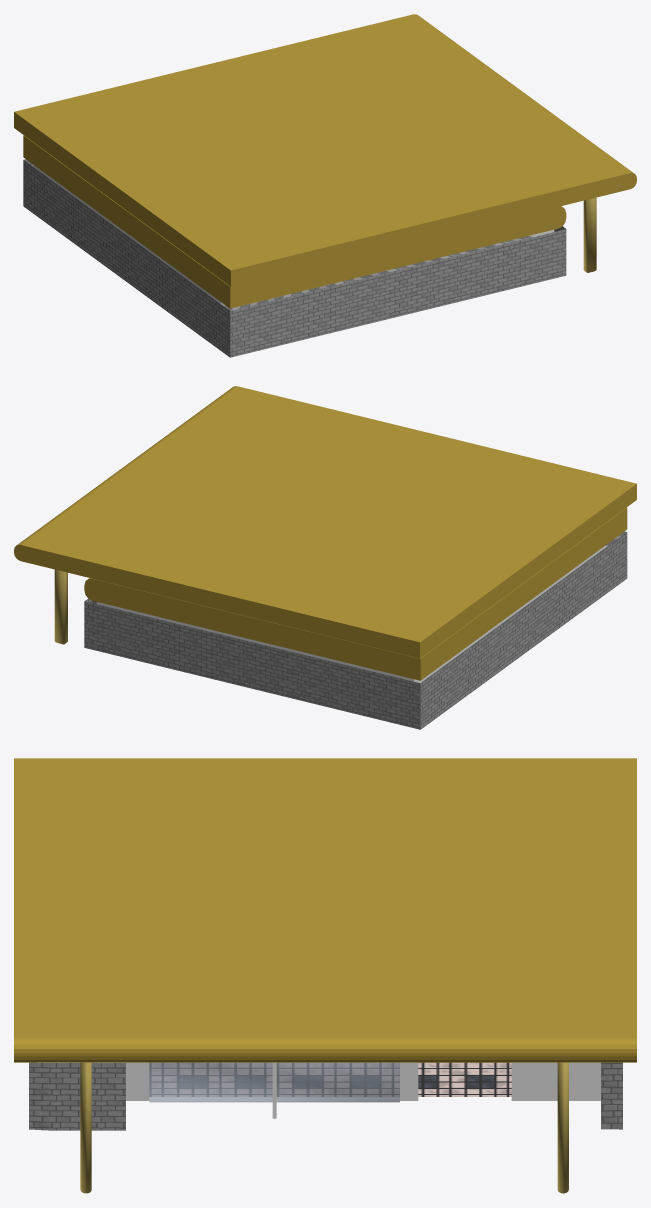
The model's file is GasStore.fbx.
The picture shows the model from 3 angles, top to bottom: view 1: azimuth 30°, elevation 25°; view 2: azimuth 150°, elevation 25°; view 3: azimuth 270°, elevation 25°; orthographic projection. The views are drawn at different scales.
Visible parts, largest first — view 1: Building; view 2: Building; view 3: Building.
Part boxes in pixels (left/top/right/bottom): Building: left=14, top=14, right=636, bottom=357; Building: left=14, top=386, right=636, bottom=729; Building: left=14, top=758, right=636, bottom=1193.
Bounding box in the file's own units: 3711 × 979 × 3431.
